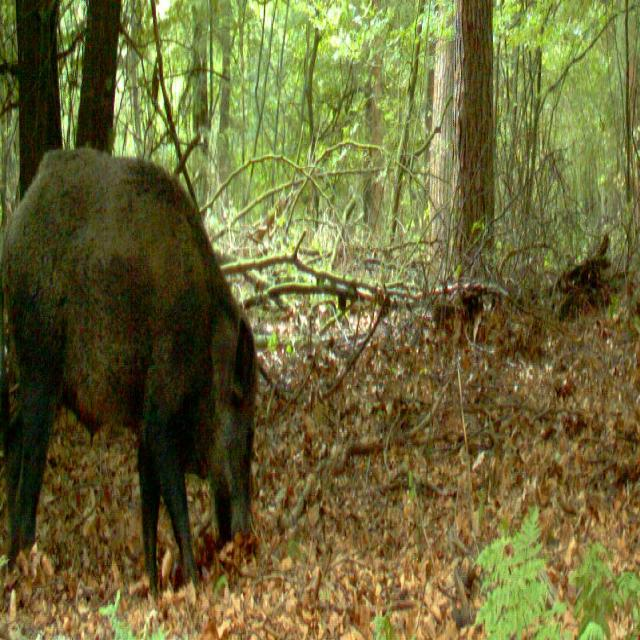pig: (0, 77, 274, 578)
